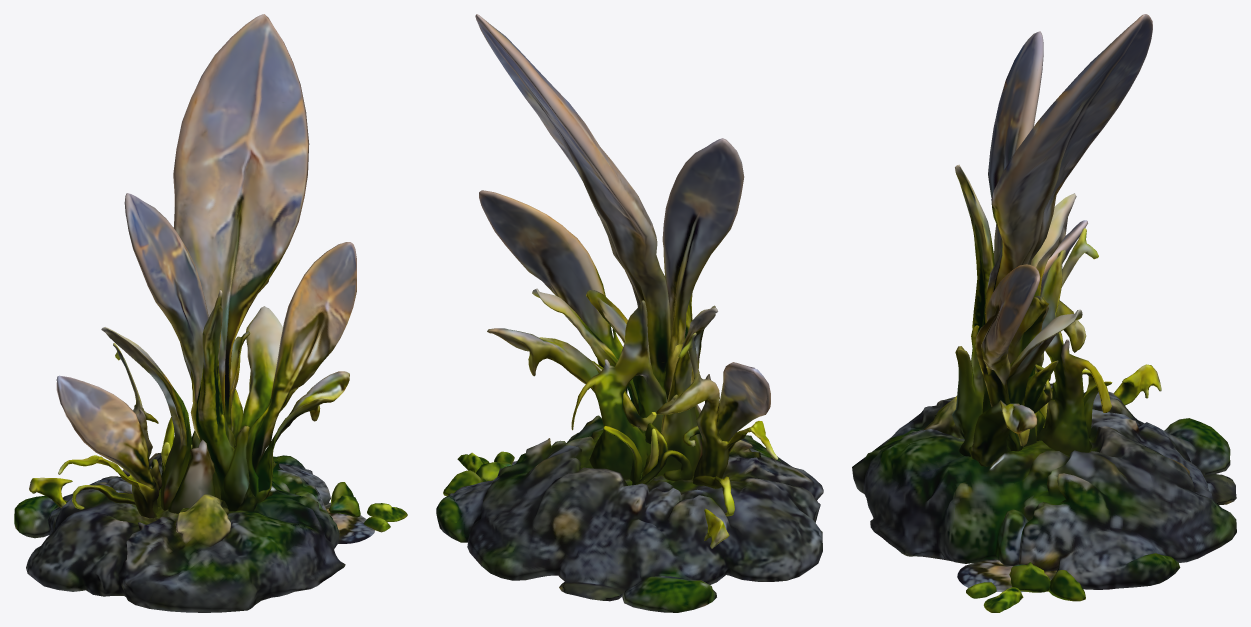
Rendered from bio_flora_plant_lowpo.glb.
3 renders of one model, left to right at view 1: azimuth 30°, elevation 25°; view 2: azimuth 150°, elevation 25°; view 3: azimuth 270°, elevation 25°, orthographic. The views are drawn at different scales.
Parts seen in each view (by area): view 1: geometry_0; view 2: geometry_0; view 3: geometry_0.
Part boxes in pixels (bbox=[...]): geometry_0: bbox=[14, 14, 407, 612]; geometry_0: bbox=[436, 14, 823, 612]; geometry_0: bbox=[852, 14, 1236, 612].
Size of the model in its own units: 0.7324 by 0.9521 by 0.6001.
Materials: 1 (1 with a texture image).
